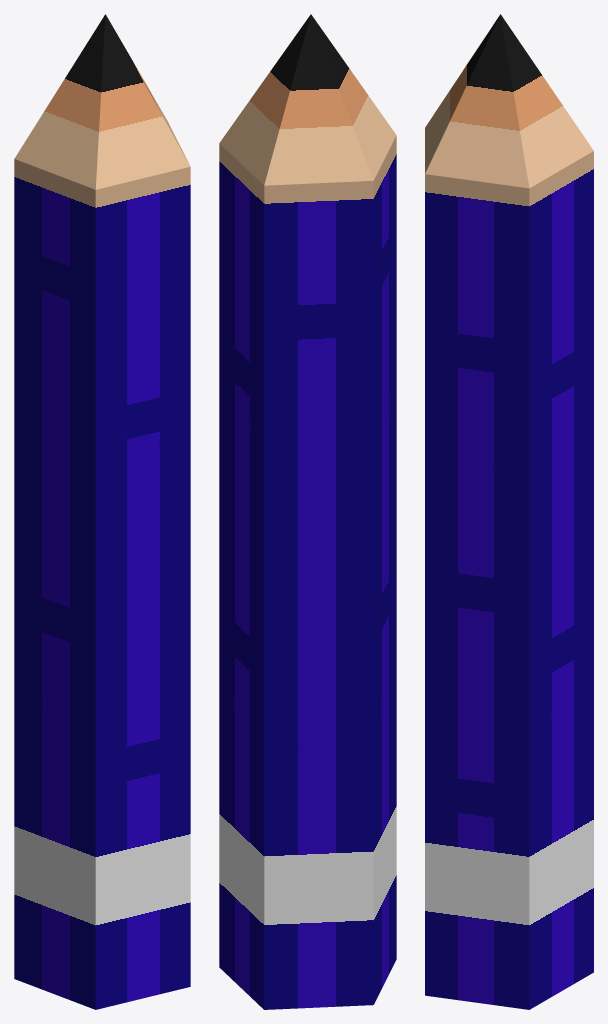
The model's file is pencil1.gltf.
The picture shows the model from 3 angles, left to right: view 1: azimuth 30°, elevation 25°; view 2: azimuth 150°, elevation 25°; view 3: azimuth 270°, elevation 25°; orthographic projection.
Parts seen in each view (by area): view 1: cylinder; view 2: cylinder; view 3: cylinder.
Part boxes in pixels (x1=…): cylinder: x1=14, y1=14, x2=190, y2=1009; cylinder: x1=219, y1=14, x2=396, y2=1009; cylinder: x1=425, y1=14, x2=593, y2=1009.
Bounding box in the file's own units: 0.1469 × 0.875 × 0.1398.
Materials: 1 (1 with a texture image).
